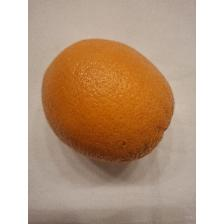Orange: (40, 37, 176, 164)
